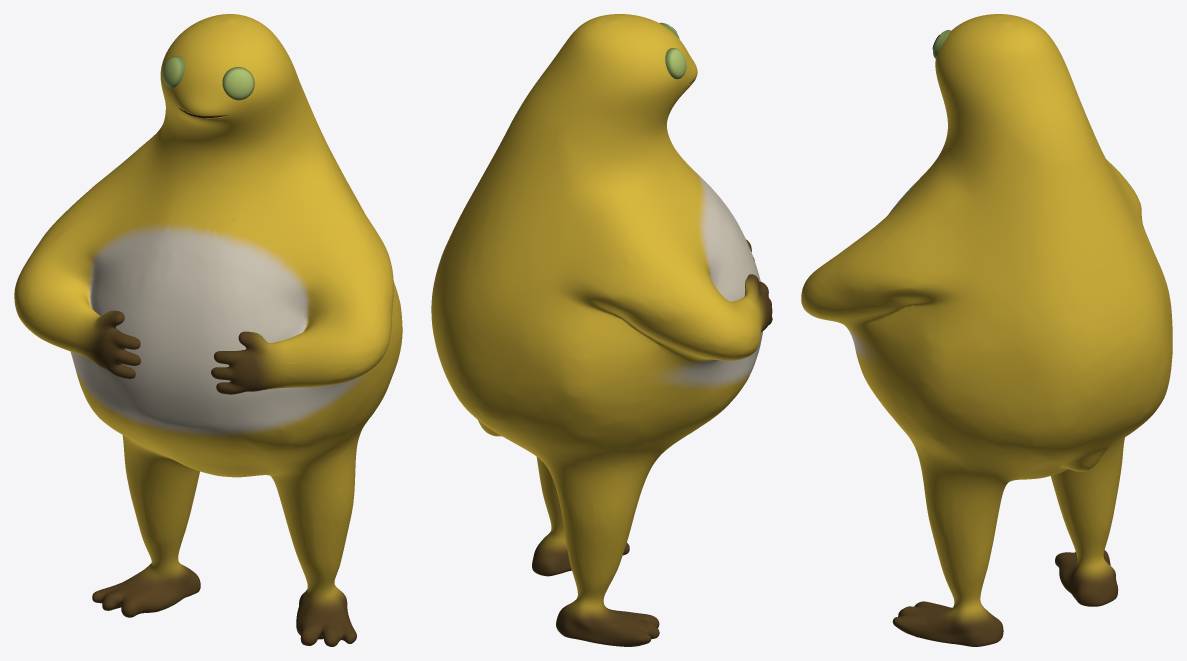
Rendered from naiwa-refined.glb.
The picture shows the model from 3 angles, left to right: view 1: azimuth 30°, elevation 25°; view 2: azimuth 150°, elevation 25°; view 3: azimuth 270°, elevation 25°; orthographic projection. The views are drawn at different scales.
Visible parts, largest first — view 1: Naiwa_Body, Eye.R, Eye.L; view 2: Naiwa_Body, Eye.L; view 3: Naiwa_Body.
Part boxes in pixels (x1,y1,x2,y2): Naiwa_Body: (14,14,402,646); Eye.R: (222,67,254,100); Eye.L: (162,56,184,88); Naiwa_Body: (431,14,772,646); Eye.L: (665,48,686,79); Naiwa_Body: (801,14,1172,646).
Size of the model in its own units: 2.9 by 5.02 by 2.92.
